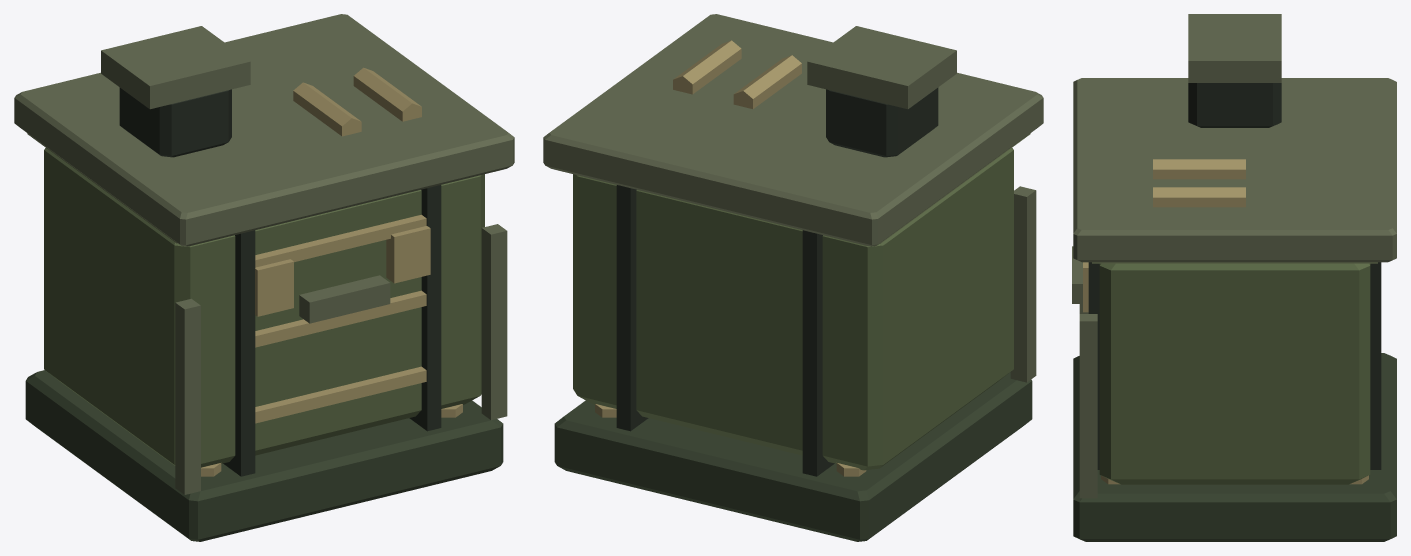
The model's file is repair_station.obj.
The picture shows the model from 3 angles, left to right: view 1: azimuth 30°, elevation 25°; view 2: azimuth 150°, elevation 25°; view 3: azimuth 270°, elevation 25°; orthographic projection. The views are drawn at different scales.
Visible parts, largest first — view 1: BASE.001; view 2: BASE.001; view 3: BASE.001.
Part boxes in pixels (x1,y1,x2,y2): BASE.001: (14, 14, 514, 541); BASE.001: (543, 14, 1043, 541); BASE.001: (1072, 14, 1396, 541).
Bounding box in the file's own units: 0.83 × 0.9775 × 0.7325.
1 material, 1 textured.
